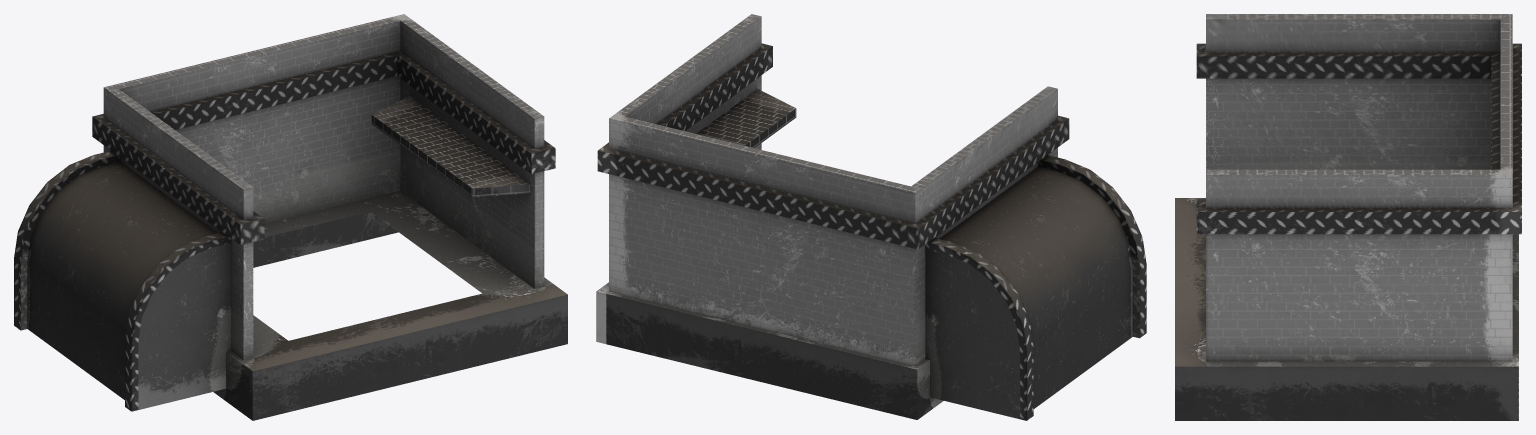
File: frame (1).fbx
3 views of the same model, side by side, from view 1: azimuth 30°, elevation 25°; view 2: azimuth 150°, elevation 25°; view 3: azimuth 270°, elevation 25° (orthographic). The views are drawn at different scales.
Visible parts, largest first — view 1: Plane; view 2: Plane; view 3: Plane.
Part boxes in pixels (x1=…): Plane: x1=14, y1=14, x2=567, y2=420; Plane: x1=596, y1=14, x2=1146, y2=420; Plane: x1=1175, y1=14, x2=1521, y2=420.
Bounding box in the file's own units: 28.24 × 42.27 × 21.66.
1 material, 1 textured.
